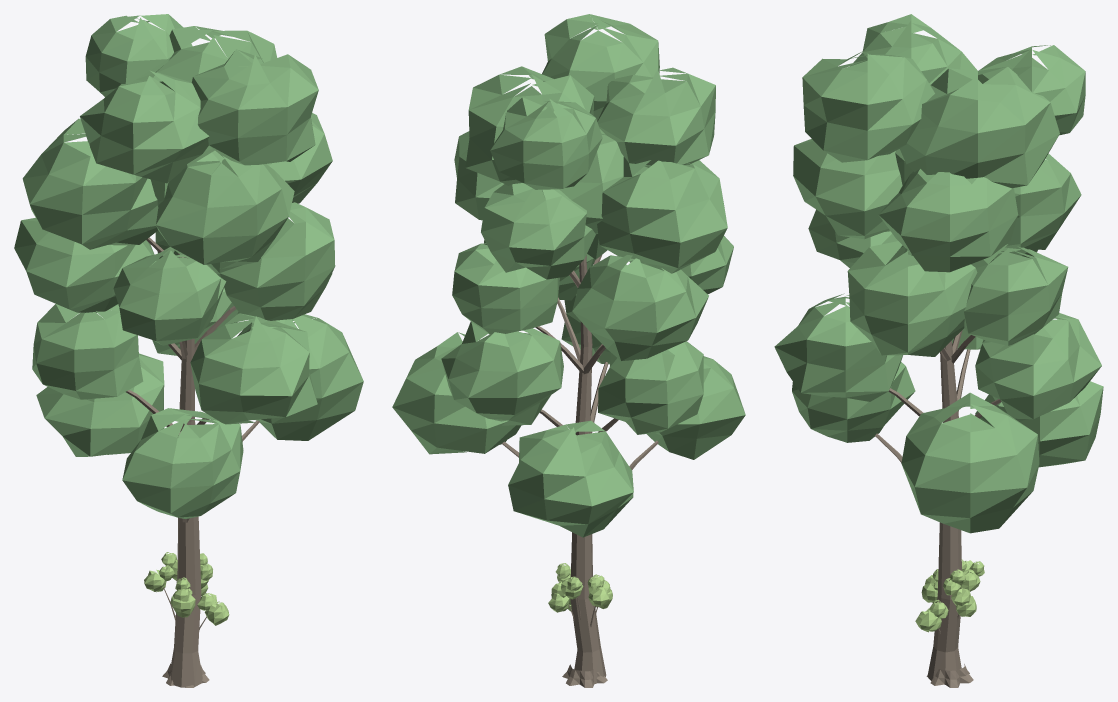
The model's file is linden.glb.
The picture shows the model from 3 angles, left to right: view 1: azimuth 30°, elevation 25°; view 2: azimuth 150°, elevation 25°; view 3: azimuth 270°, elevation 25°; orthographic projection. The views are drawn at different scales.
Visible parts, largest first — view 1: small-leaved-lime; view 2: small-leaved-lime; view 3: small-leaved-lime.
Part boxes in pixels (box(x1,y1,x2,y2)): small-leaved-lime: box(14, 14, 363, 687); small-leaved-lime: box(392, 14, 745, 687); small-leaved-lime: box(774, 14, 1103, 687).
Size of the model in its own units: 12.36 by 23.55 by 10.93.
